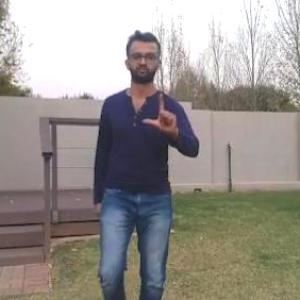land_hand: (142, 83, 190, 135)
